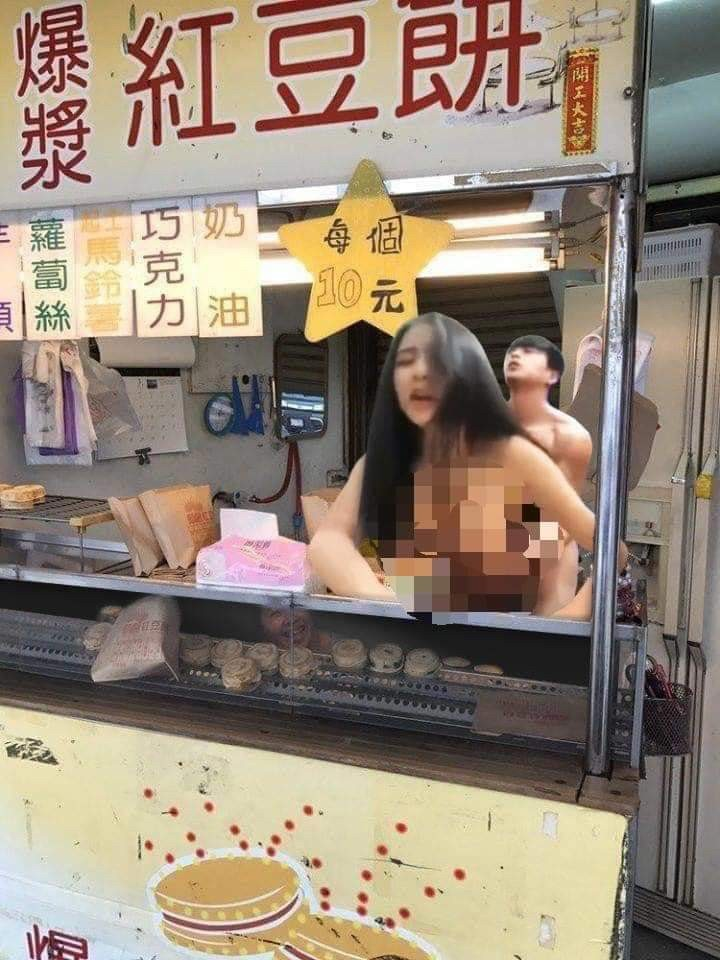people: (341, 312, 504, 625), (495, 331, 598, 624)
